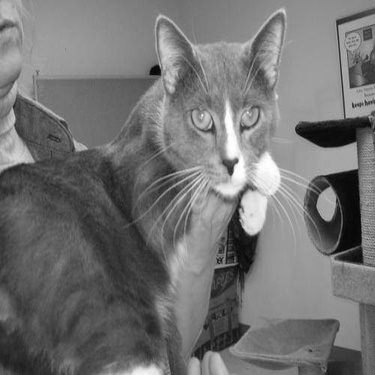cat: (1, 17, 343, 371)
